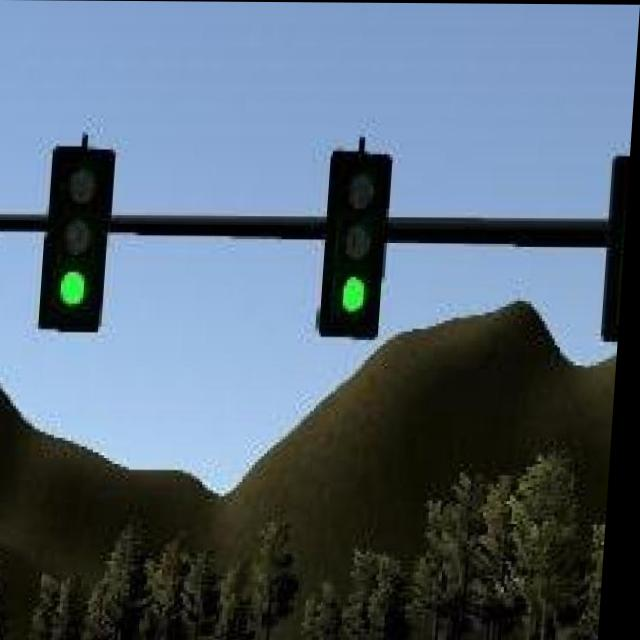green light: (322, 151, 395, 339), (46, 143, 116, 332)
